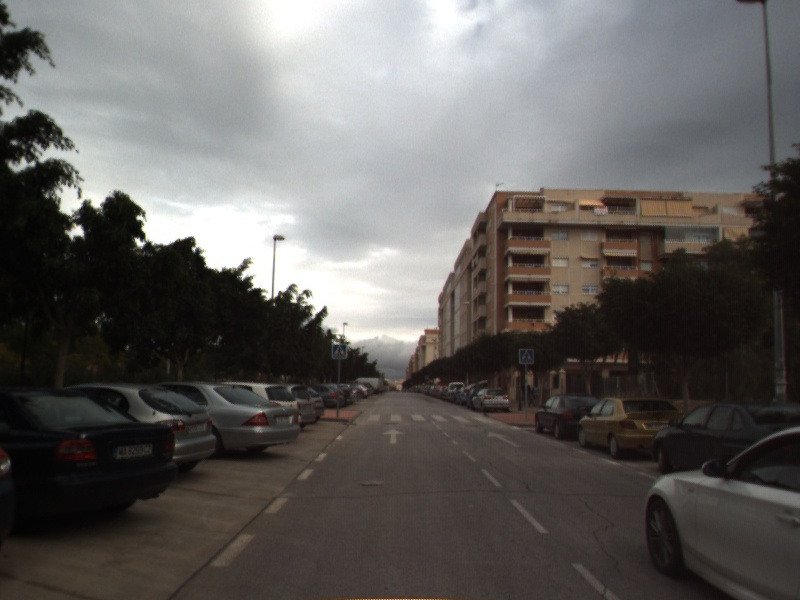STRAIGHT: (485, 429, 522, 449), (381, 426, 407, 445)
